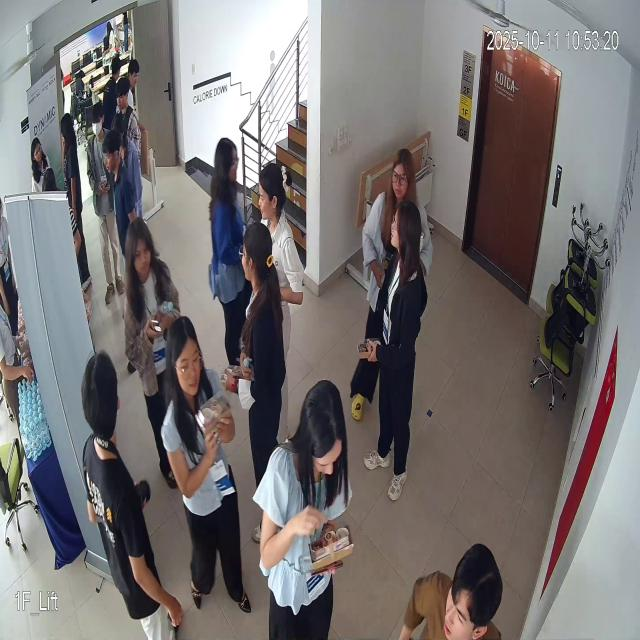face: (120, 207, 164, 283), (258, 160, 294, 229), (210, 136, 241, 193), (389, 148, 416, 207)
